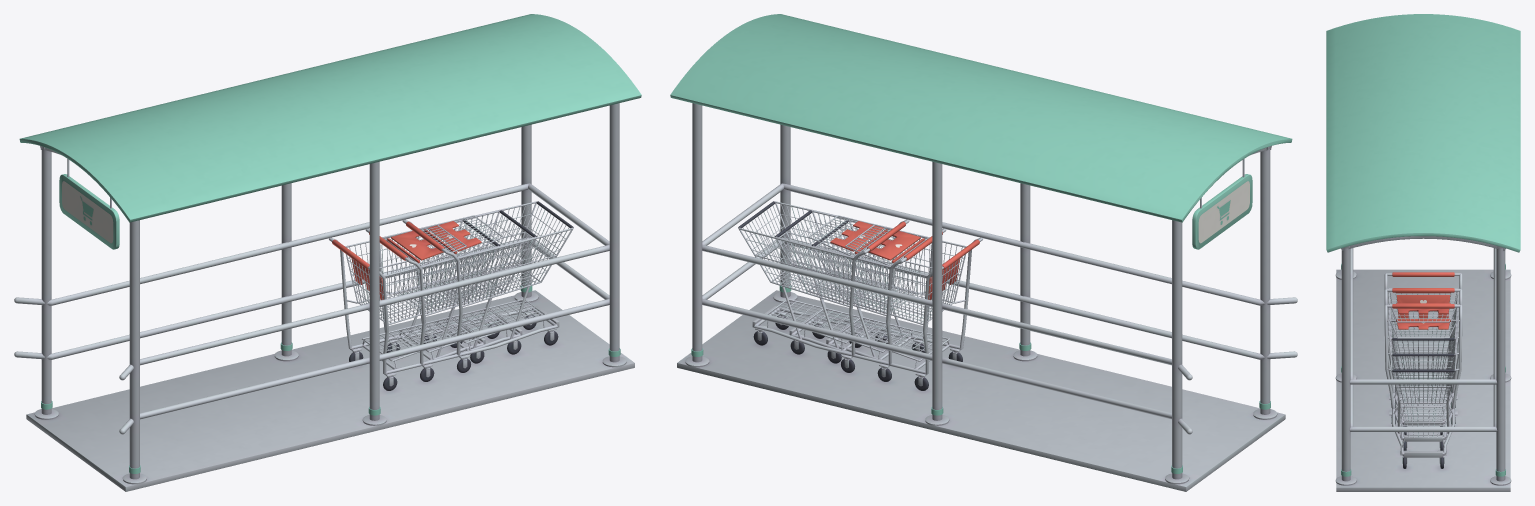
File: cart-corral.fbx
3 views of the same model, side by side, from view 1: azimuth 30°, elevation 25°; view 2: azimuth 150°, elevation 25°; view 3: azimuth 270°, elevation 25° (orthographic). The views are drawn at different scales.
Visible parts, largest first — view 1: cart-corral_body; view 2: cart-corral_body; view 3: cart-corral_body.
Part boxes in pixels (bbox=[...]): cart-corral_body: bbox=[14, 14, 641, 491]; cart-corral_body: bbox=[670, 14, 1297, 491]; cart-corral_body: bbox=[1326, 14, 1520, 491].
Size of the model in its own units: 4.22 by 2.3 by 1.56.
1 material, 1 textured.
